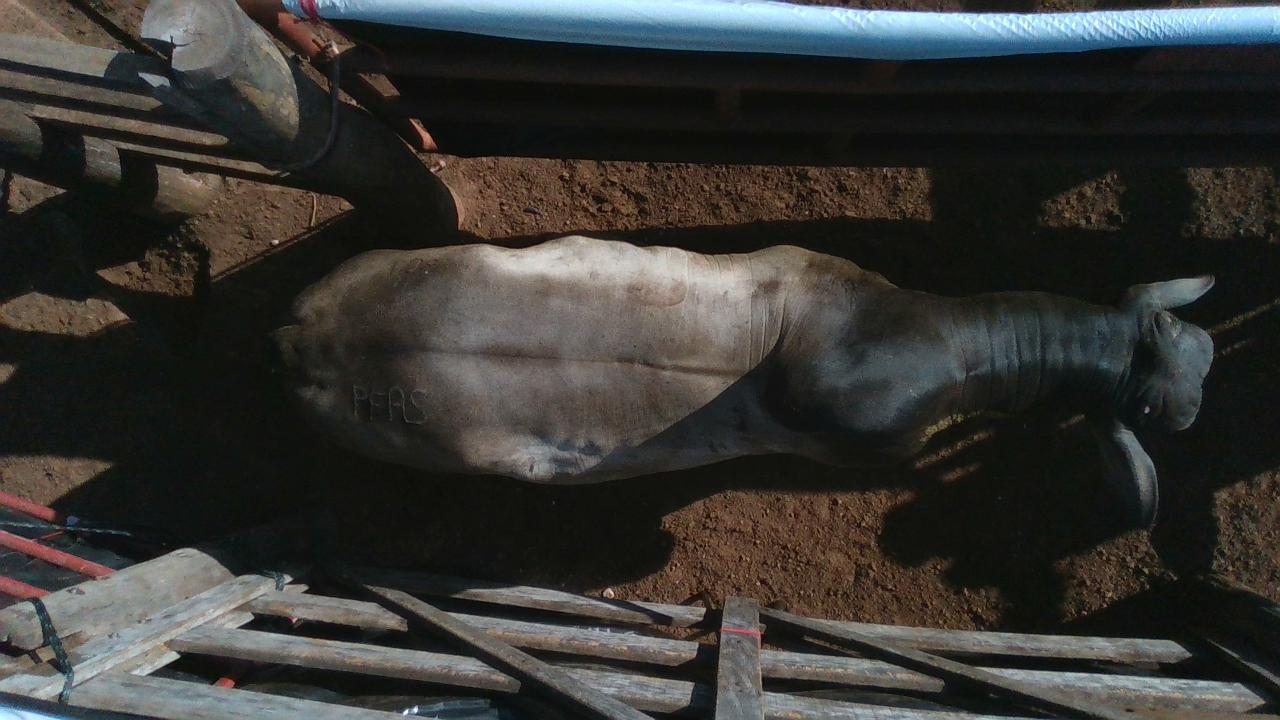cattle: (267, 233, 1216, 529)
